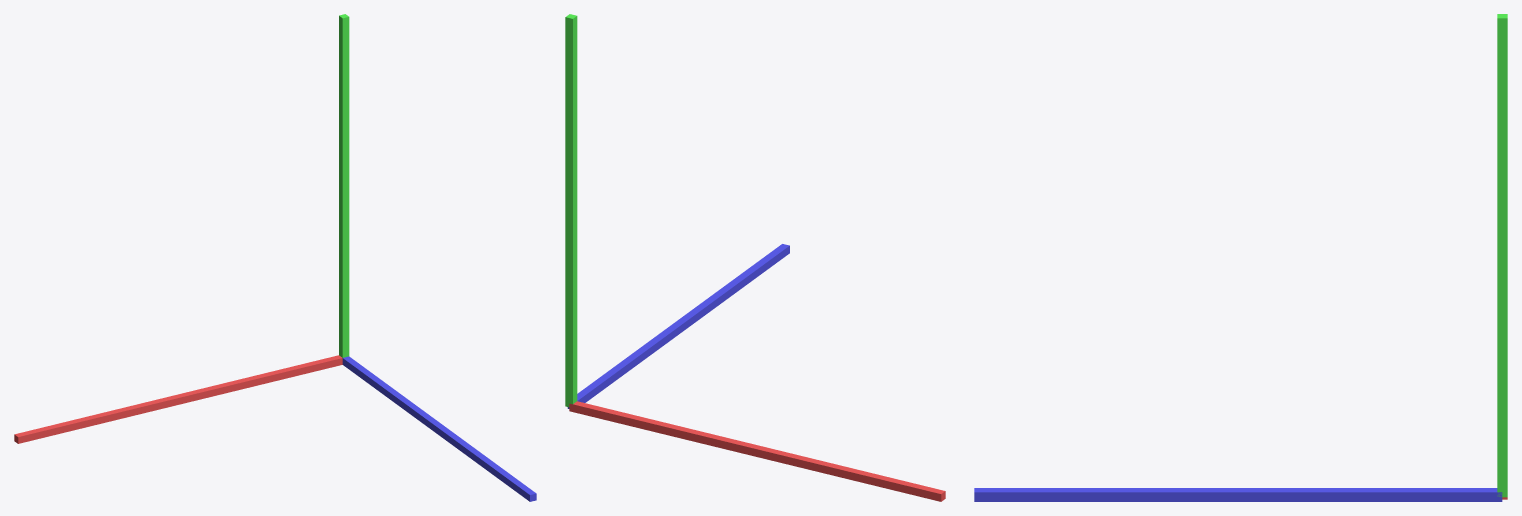
Rendered from gizmo2.fbx.
The picture shows the model from 3 angles, left to right: view 1: azimuth 30°, elevation 25°; view 2: azimuth 150°, elevation 25°; view 3: azimuth 270°, elevation 25°; orthographic projection. The views are drawn at different scales.
Parts seen in each view (by area): view 1: 立方体.002; view 2: 立方体.002; view 3: 立方体.002.
Boxes of the visible parts, left/top/right/bottom form: 立方体.002: left=14, top=14, right=536, bottom=501; 立方体.002: left=565, top=14, right=945, bottom=501; 立方体.002: left=974, top=14, right=1507, bottom=501.
Bounding box in the file's own units: 101 × 101 × 101.
